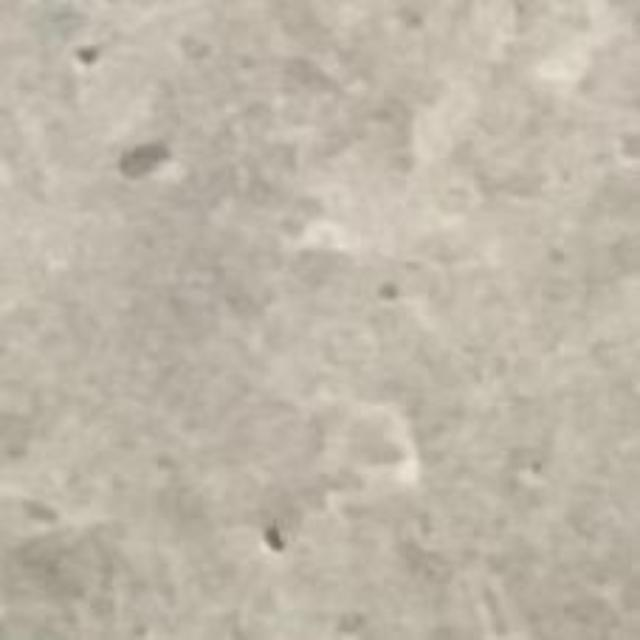peeling plaster: (322, 406, 422, 496)
